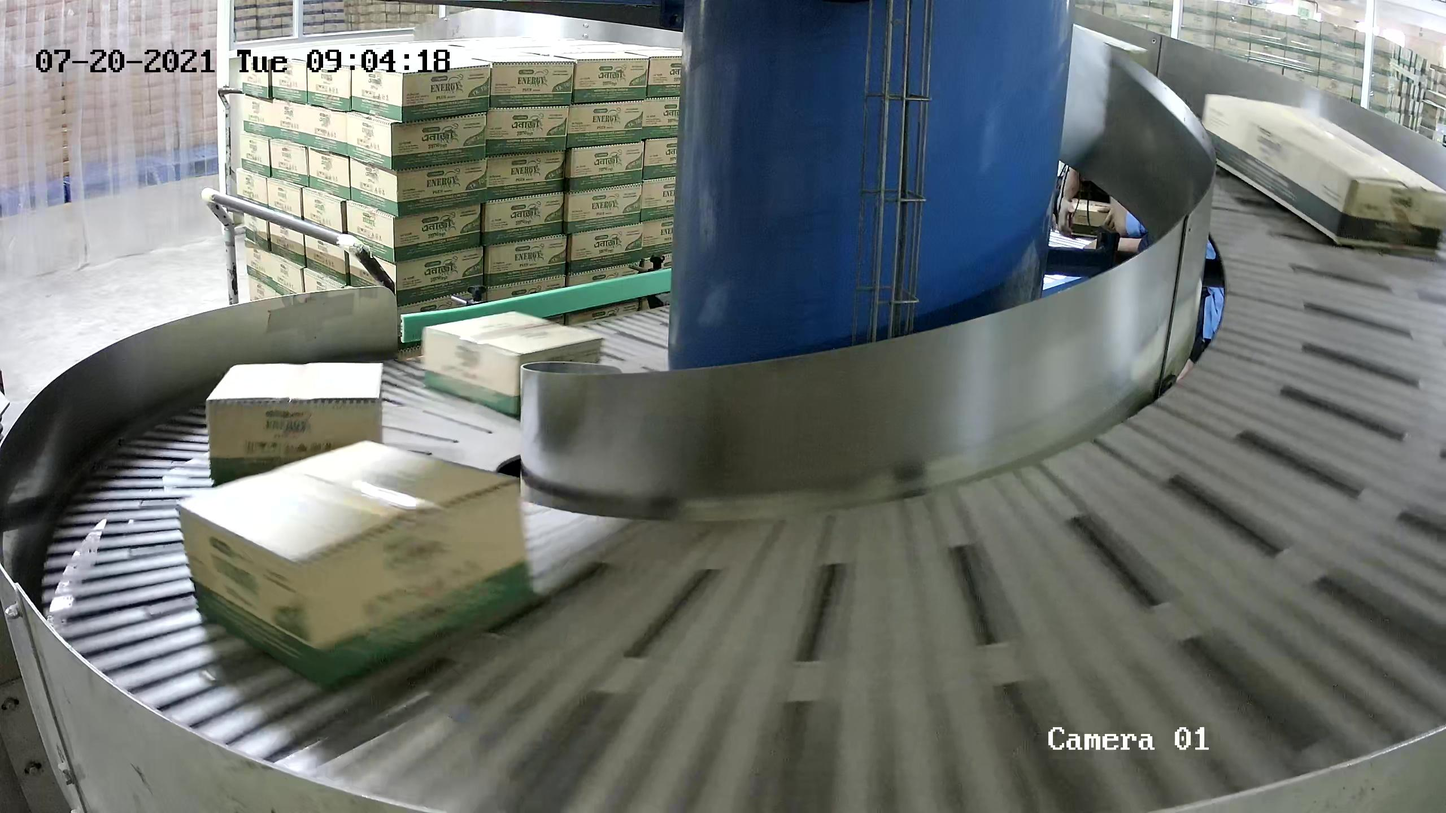Box: (175, 437, 530, 689), (1199, 92, 1446, 259), (206, 362, 383, 487), (421, 309, 602, 419)
